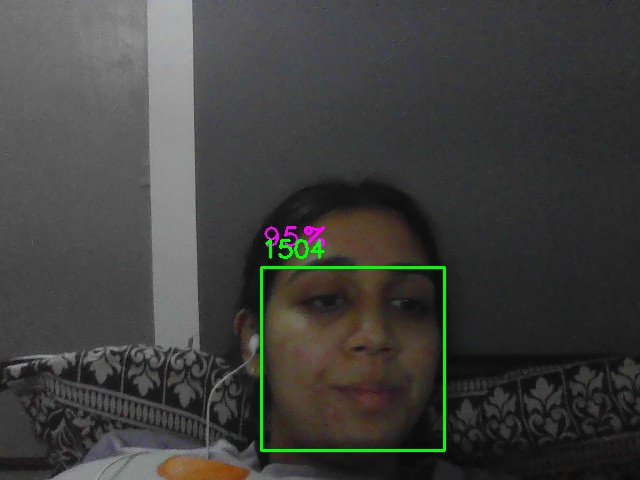real: (261, 267, 445, 451)
